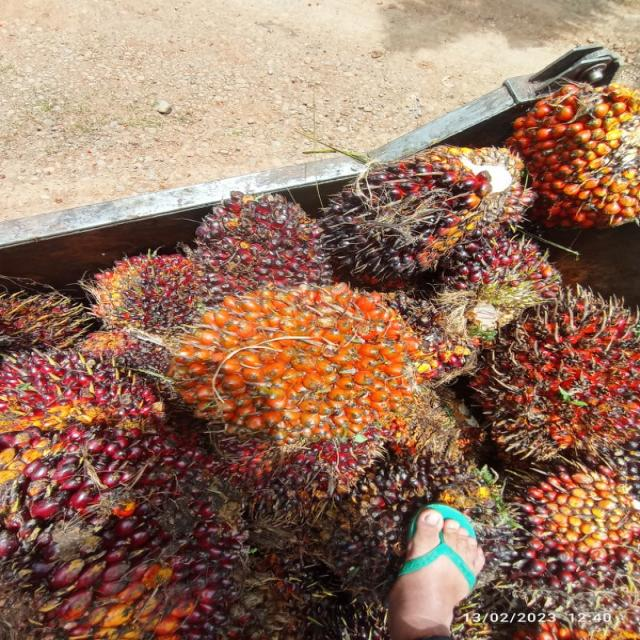fraksi 00: (322, 132, 532, 292)
fraksi 1: (0, 337, 212, 555), (502, 455, 640, 633), (192, 180, 342, 308), (73, 240, 226, 350)
fraksi 4: (139, 275, 469, 464), (459, 287, 640, 460), (510, 74, 640, 240)
